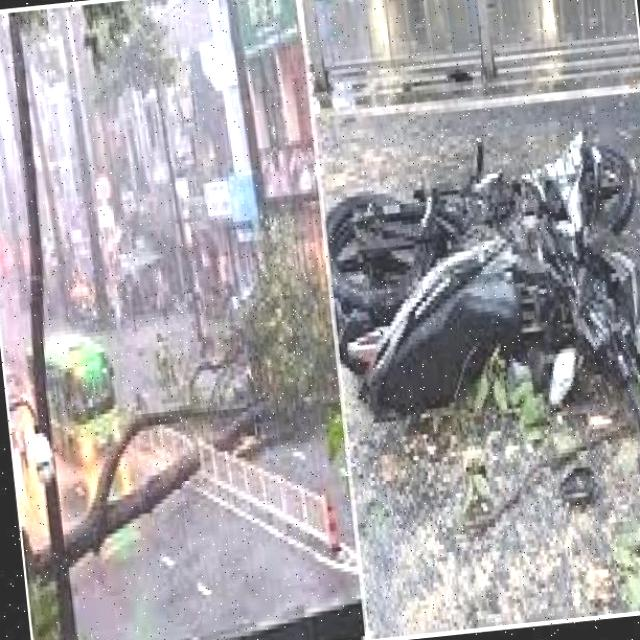fallen_object: (0, 247, 356, 592)
